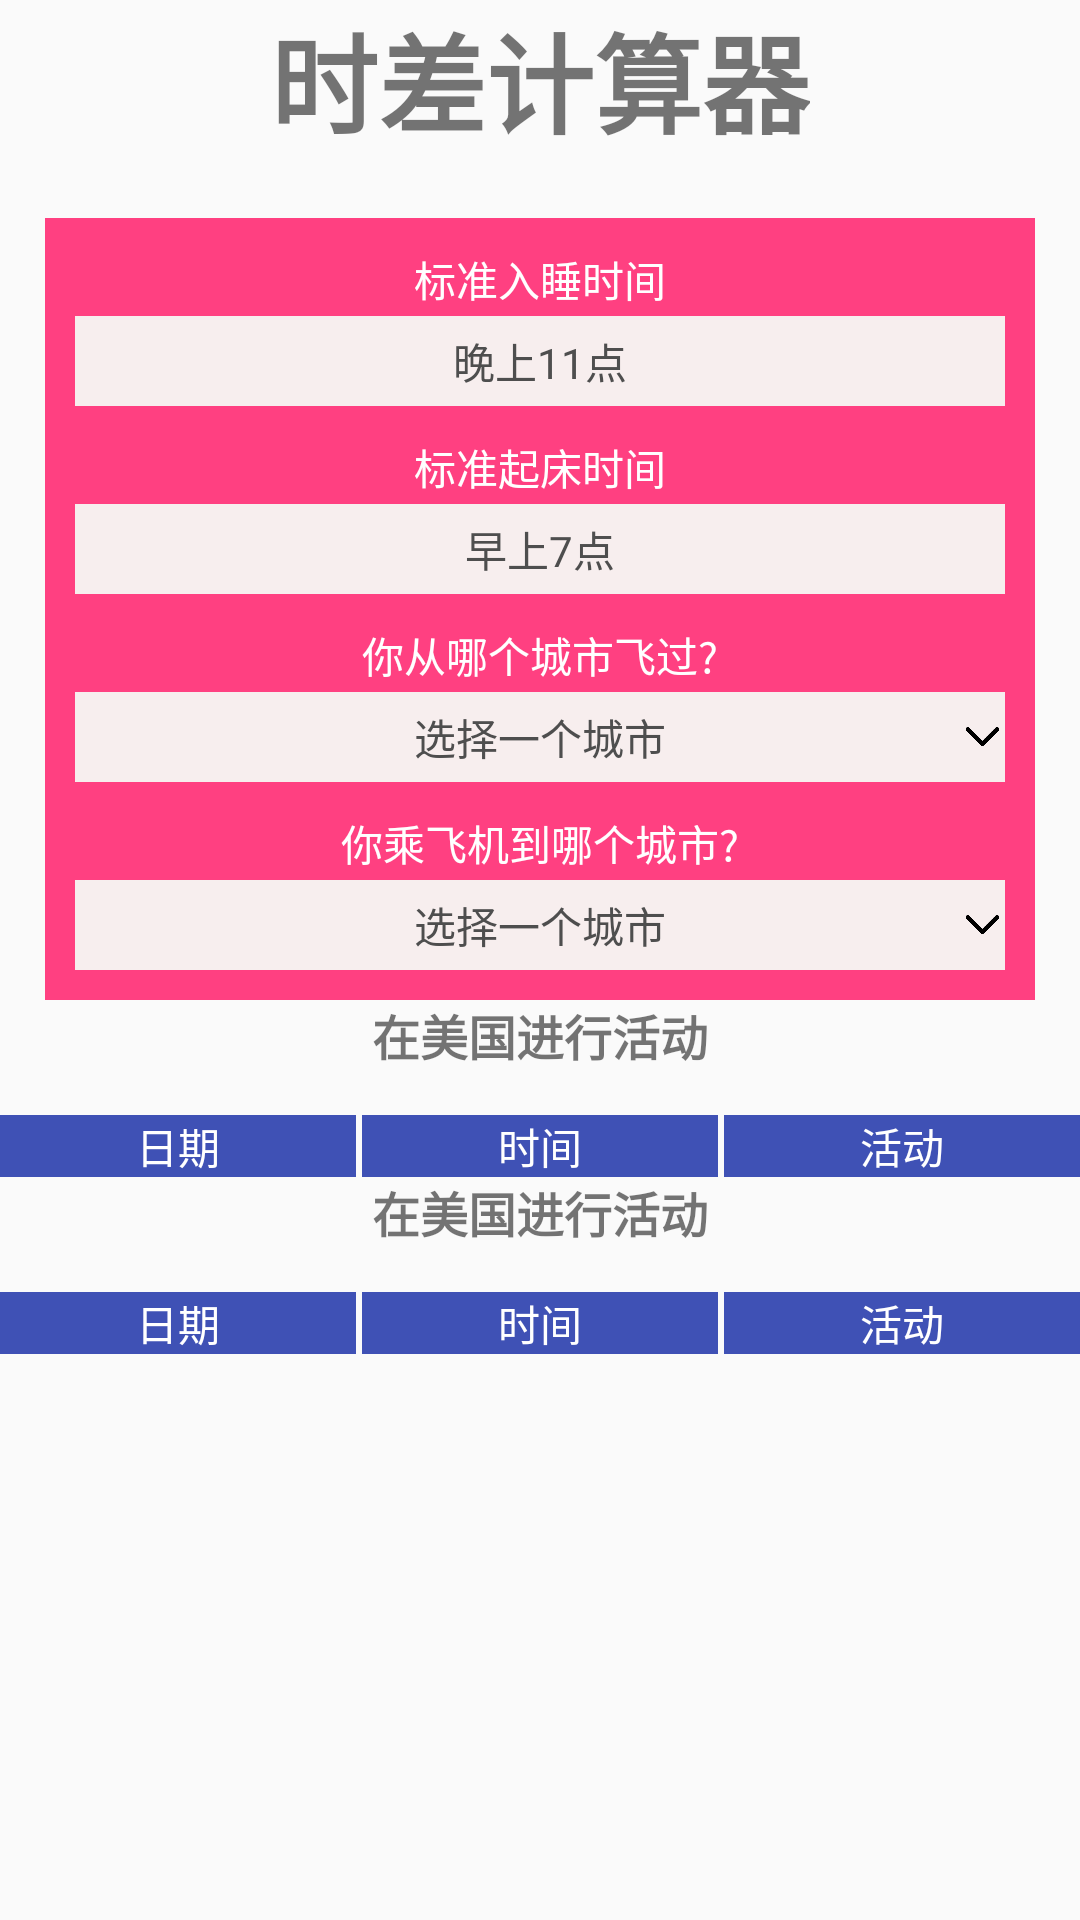

Where to tap for icons on this 1080×1920 app screen, as point (x, y):
down: point (982, 736), point (982, 924)
